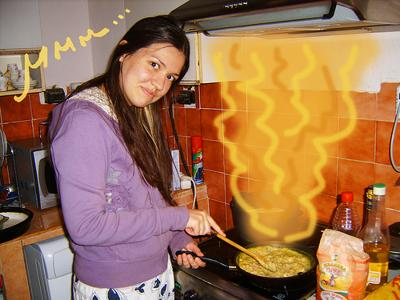person: (50, 16, 226, 300)
